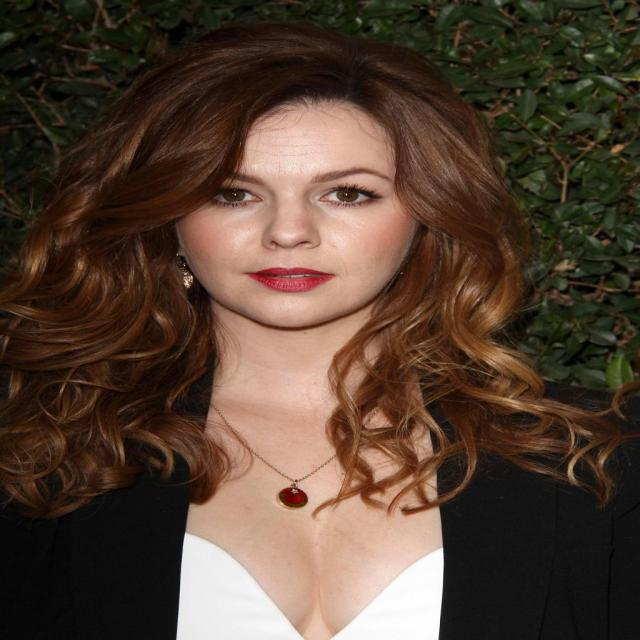Face: (181, 97, 437, 321)
